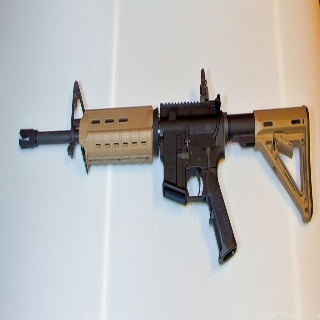rifle: (17, 66, 314, 267)
